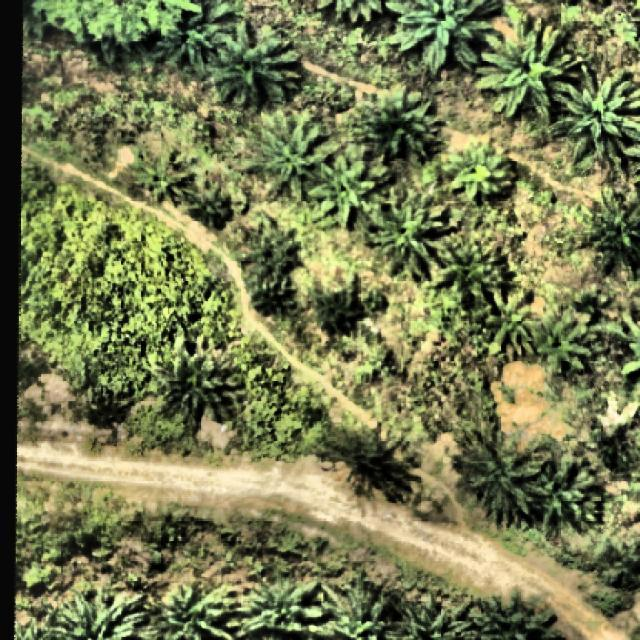Kelapa_Sawit: (475, 10, 580, 127), (450, 427, 552, 524), (149, 334, 240, 434), (366, 185, 456, 284), (322, 418, 422, 506), (208, 20, 301, 108), (254, 109, 340, 200), (358, 86, 440, 162), (436, 230, 518, 304), (308, 150, 378, 228), (530, 454, 604, 526), (447, 135, 516, 203), (233, 212, 302, 280), (533, 304, 595, 374), (132, 146, 194, 209), (484, 284, 538, 356)
